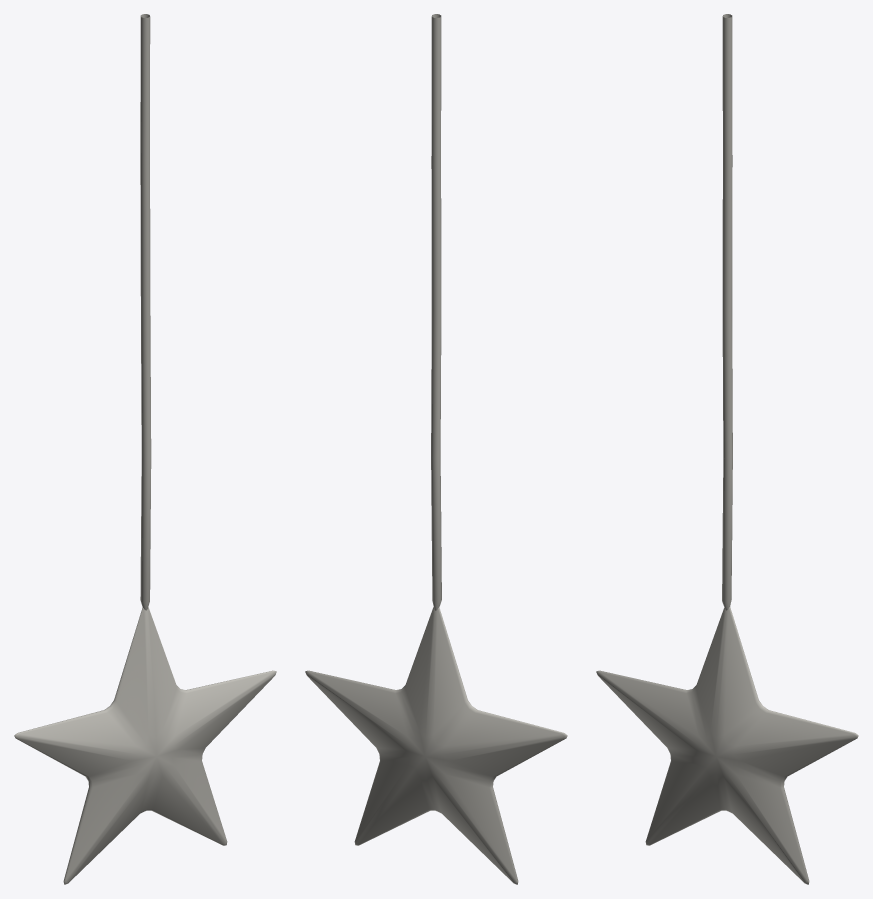
File: PartyHangingStar02A_2.FBX
The picture shows the model from 3 angles, left to right: view 1: azimuth 30°, elevation 25°; view 2: azimuth 150°, elevation 25°; view 3: azimuth 330°, elevation 25°; orthographic projection.
Visible parts, largest first — view 1: PartyHangingStar02A_2; view 2: PartyHangingStar02A_2; view 3: PartyHangingStar02A_2.
Part boxes in pixels (x1=…): PartyHangingStar02A_2: x1=14, y1=14, x2=276, y2=884; PartyHangingStar02A_2: x1=305, y1=14, x2=567, y2=884; PartyHangingStar02A_2: x1=596, y1=14, x2=858, y2=884.
Size of what is drawn, in the model's own units: 0.302 by 0.9326 by 0.0451.
